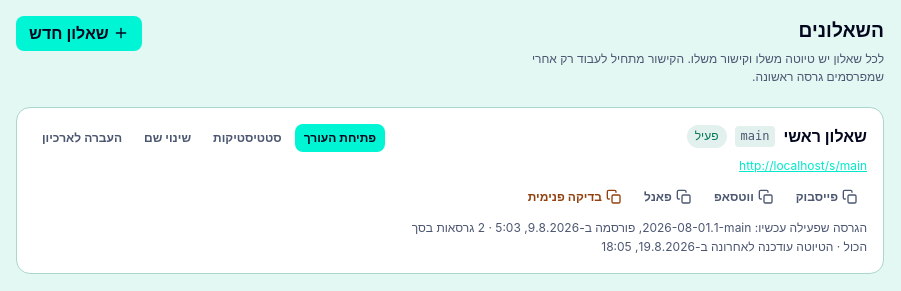
it: per-source copy buttons › confirms on screen that the link was copied
What coordinates should you click on to do the following:
click the button "ווטסאפ"
I would click on:
 (744, 197)
Its box is left=705, top=183, right=783, bottom=211.
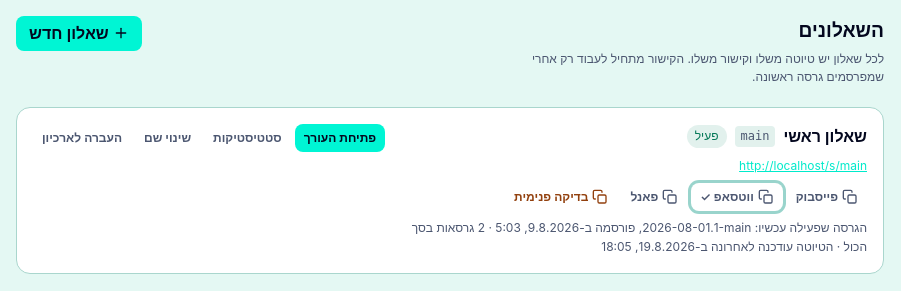
Expected: the button "ווטסאפ ✓" is shown, left=691, top=183, right=783, bottom=211
